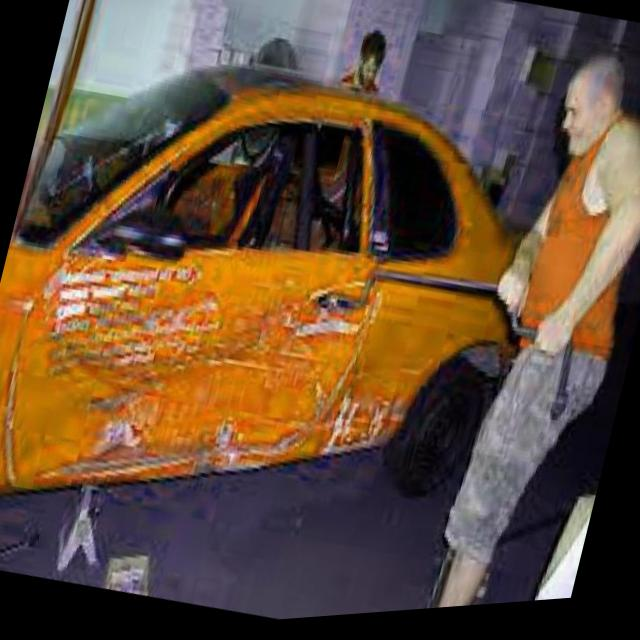Car-Damage: (0, 177, 442, 563)
